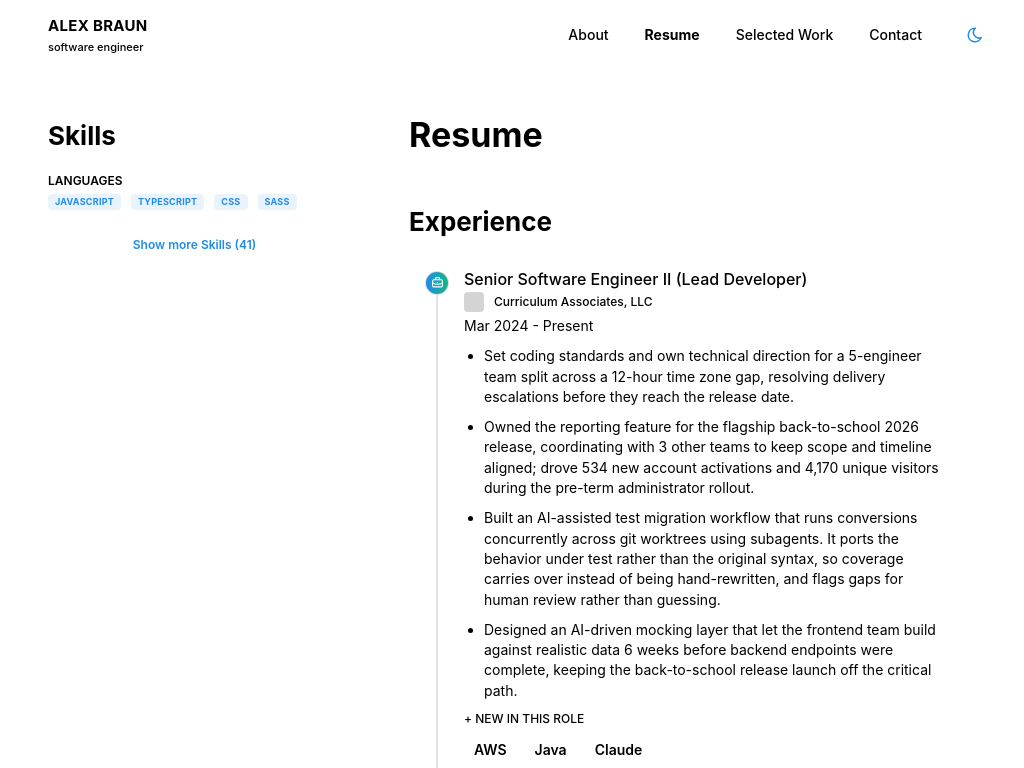
Test: Page Aside content by route › reveals the rest of the Skill Inventory when Show more Skills is clicked
Click the button "Show more Skills (41)".
click(194, 245)  # box [48,230,341,260]
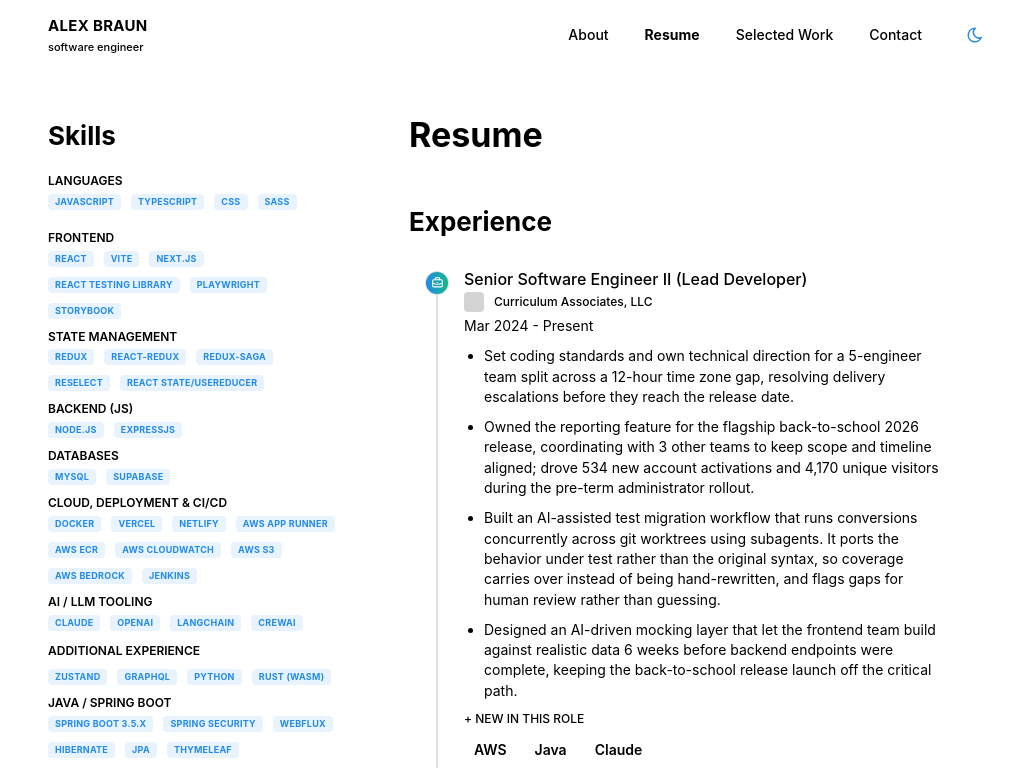
Expected: the text "Frontend" is shown, [48,230,114,245]
Expected: the text "Additional Experience" is shown, [48,643,200,658]
